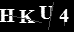4: (58, 8, 70, 23)
H: (1, 8, 16, 23)
K: (18, 9, 36, 24)
U: (38, 5, 54, 20)
